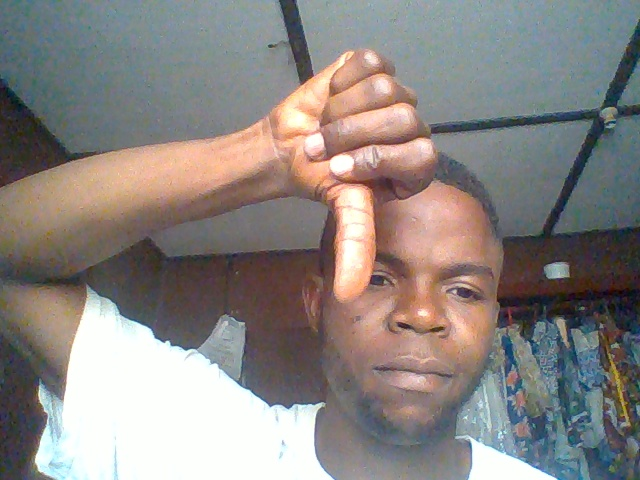Thumbdown: (267, 43, 436, 316)
